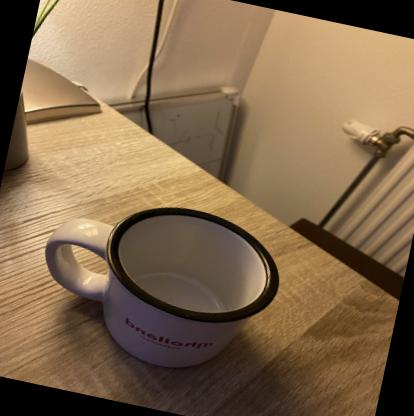Cup: (23, 176, 294, 390)
